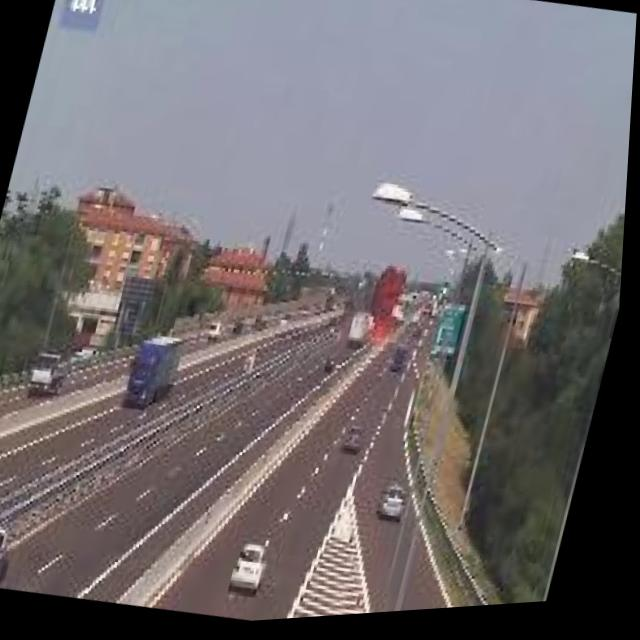fire: (361, 265, 419, 362)
